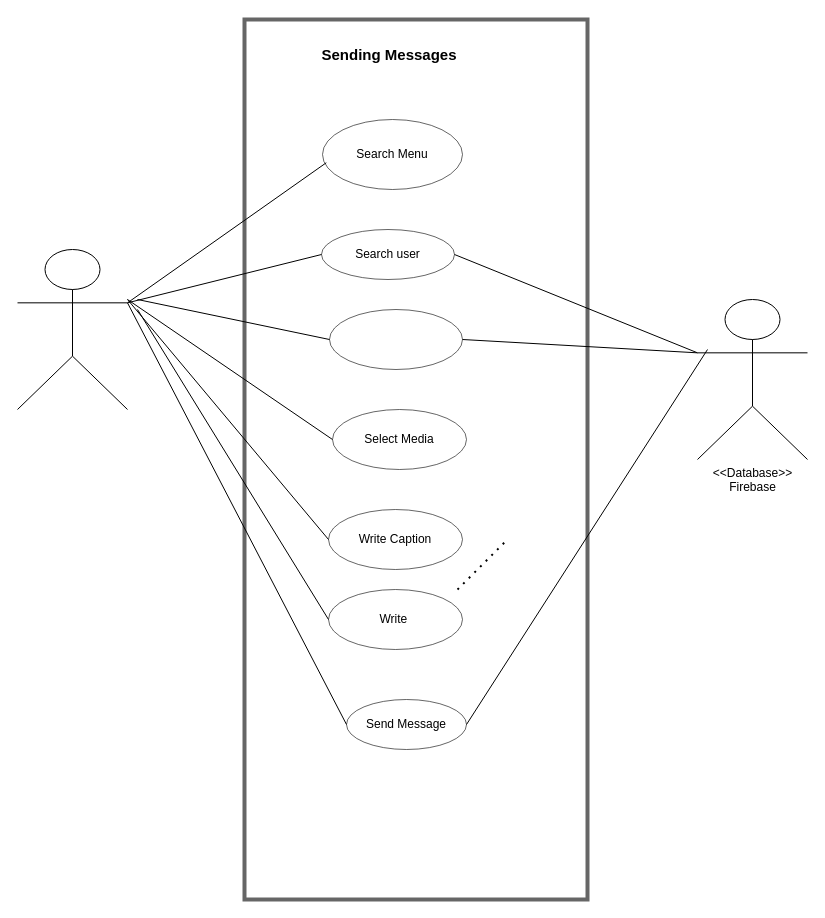
Image size: 825x918. Some labels were removed from this diagram. Each missing label, with the centre of its shape:
"Select user" belongs at point (395, 339).
"User" belongs at point (72, 329).
